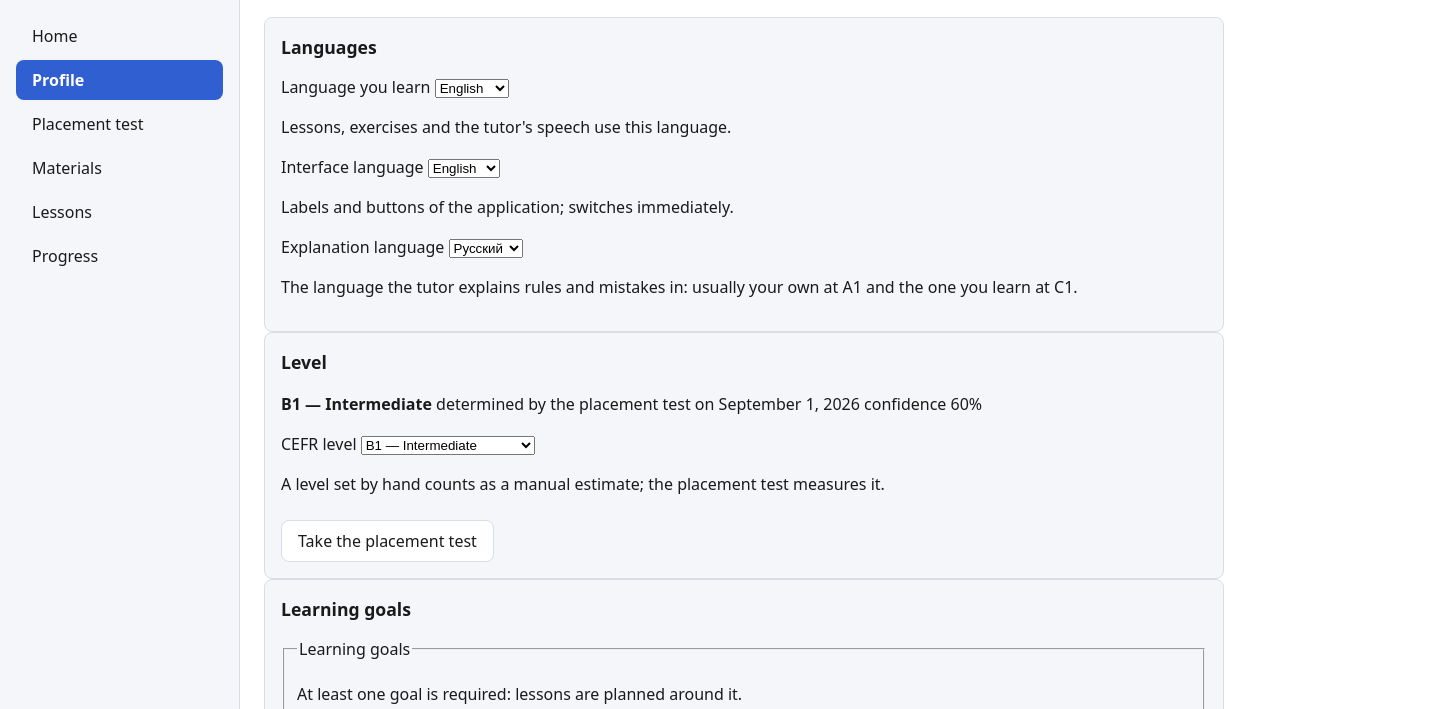
Test: язык интерфейса › переключает подписи сразу и запоминает выбор
Select "Русский" in the dropdown labelled "Interface language": (464, 169) [428,159,500,178]
(page scrolled)
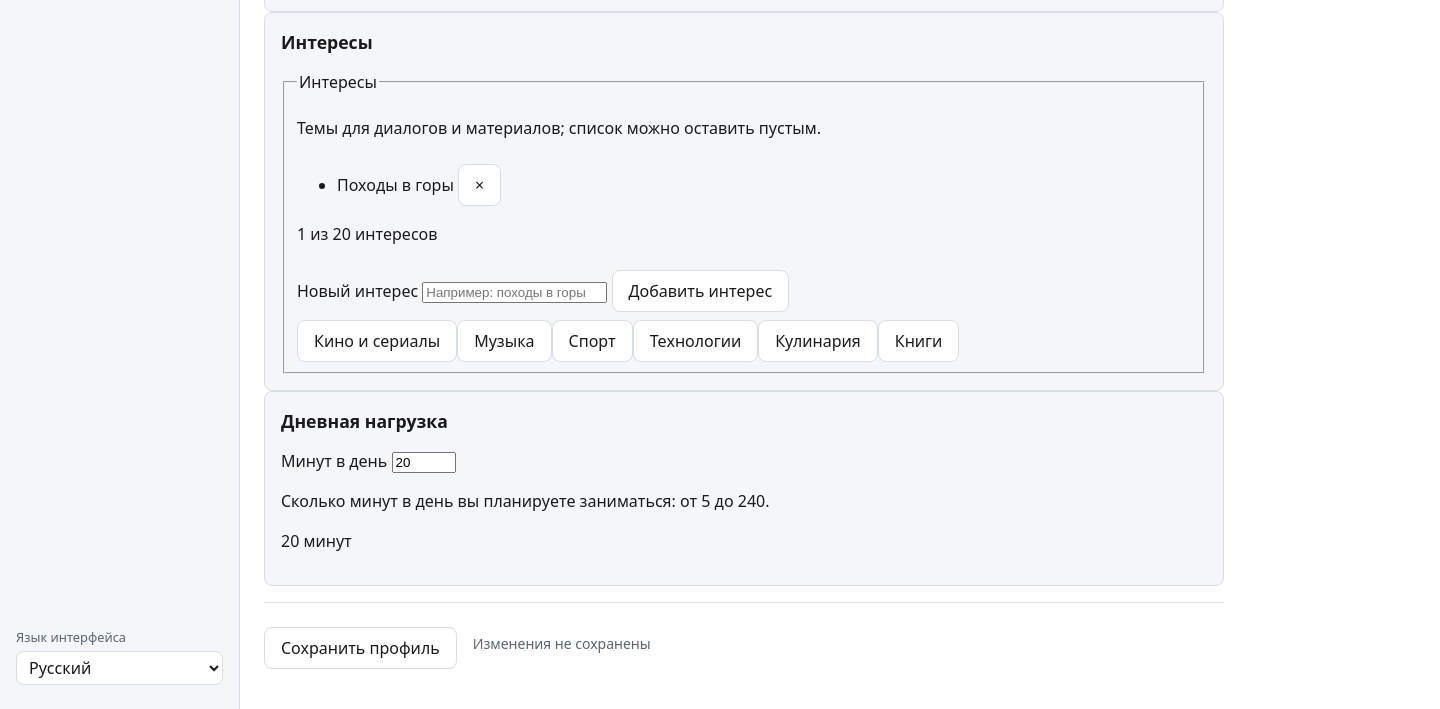
Expected: the button "Сохранить профиль" is shown, [264,627,457,669]
